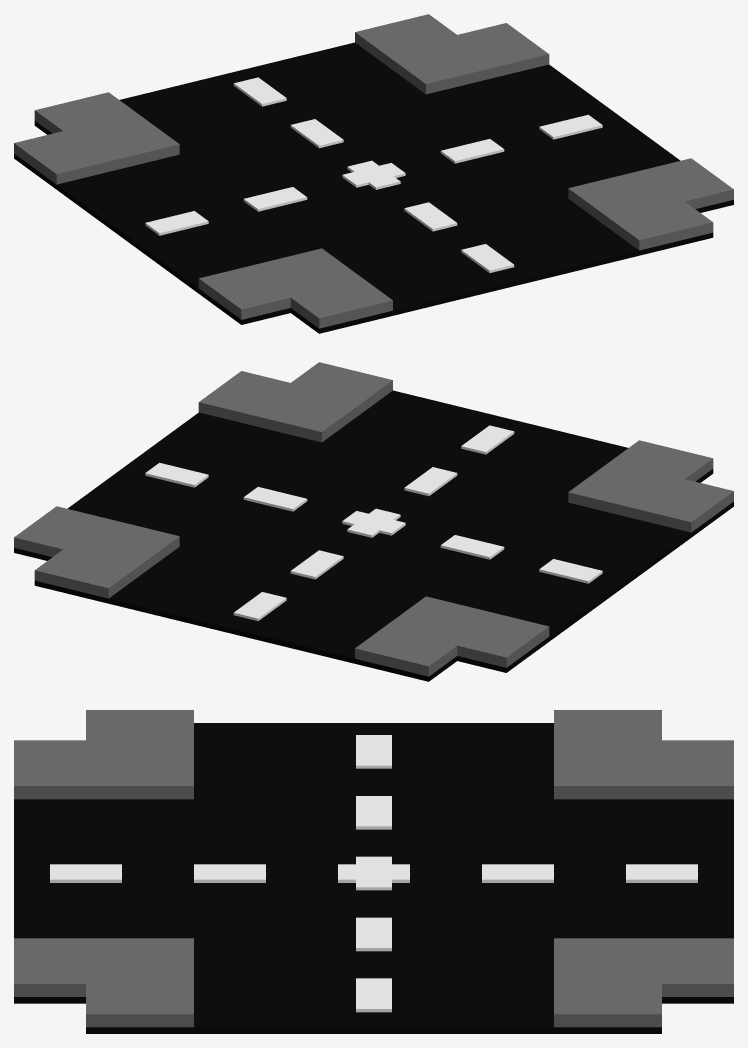
The model's file is crossroad.gltf.
3 views of the same model, one above another, from view 1: azimuth 30°, elevation 25°; view 2: azimuth 150°, elevation 25°; view 3: azimuth 270°, elevation 25° (orthographic). The views are drawn at different scales.
Visible parts, largest first — view 1: Cube; view 2: Cube; view 3: Cube.
Boxes of the visible parts, bbox=[...] form: Cube: bbox=[14, 14, 733, 333]; Cube: bbox=[14, 362, 733, 681]; Cube: bbox=[14, 710, 733, 1033].
Bounding box in the file's own units: 20 × 0.6 × 20.
1 material, 1 textured.
